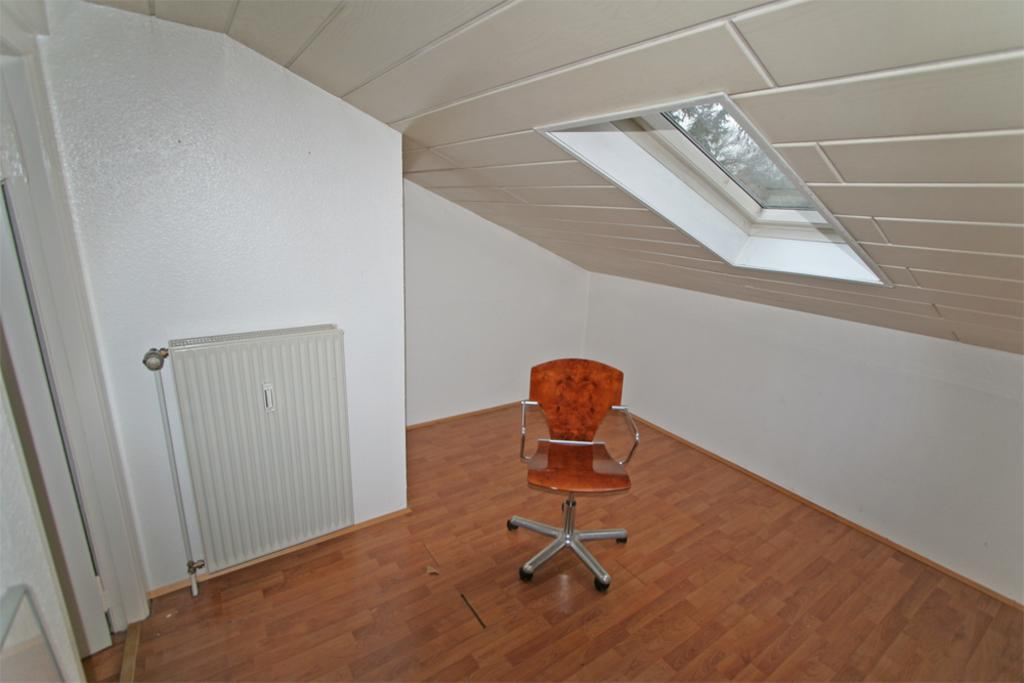Chair: (507, 348, 640, 588)
